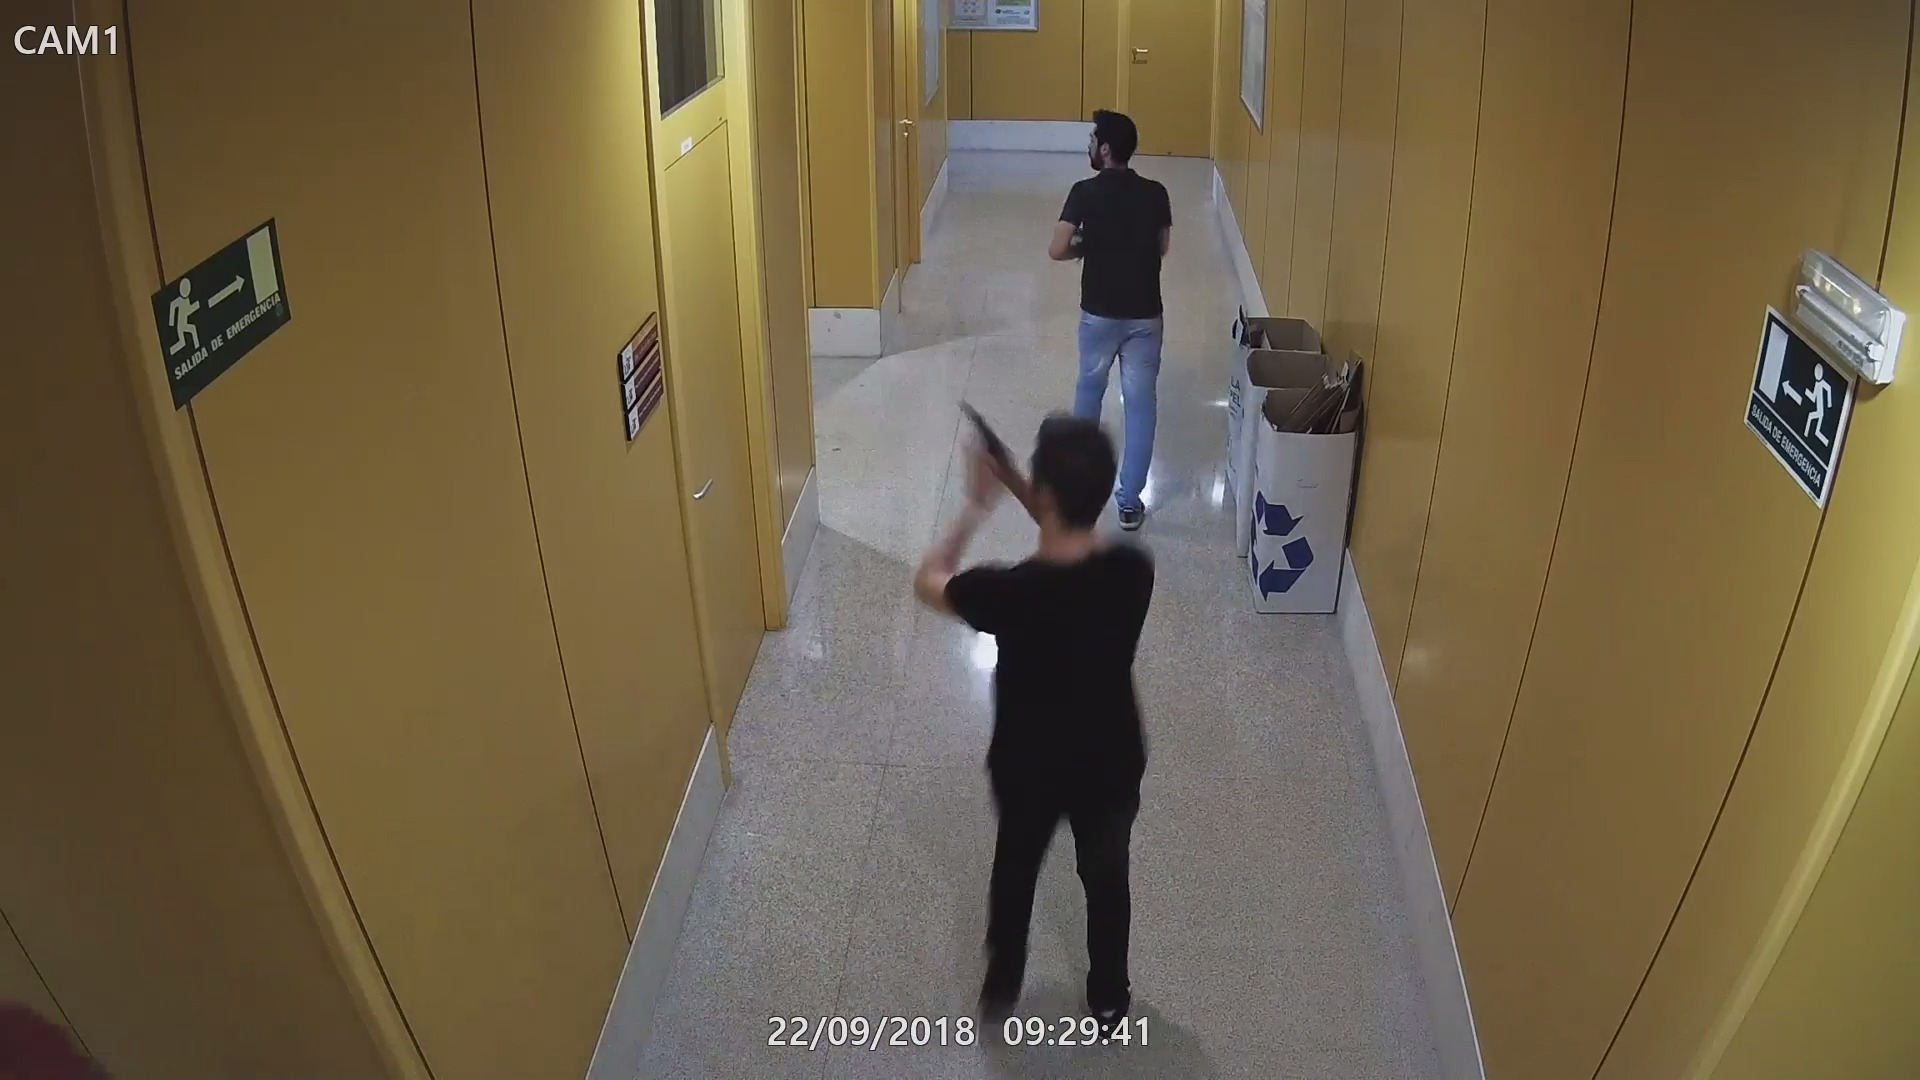Handgun: (957, 397, 1019, 498)
